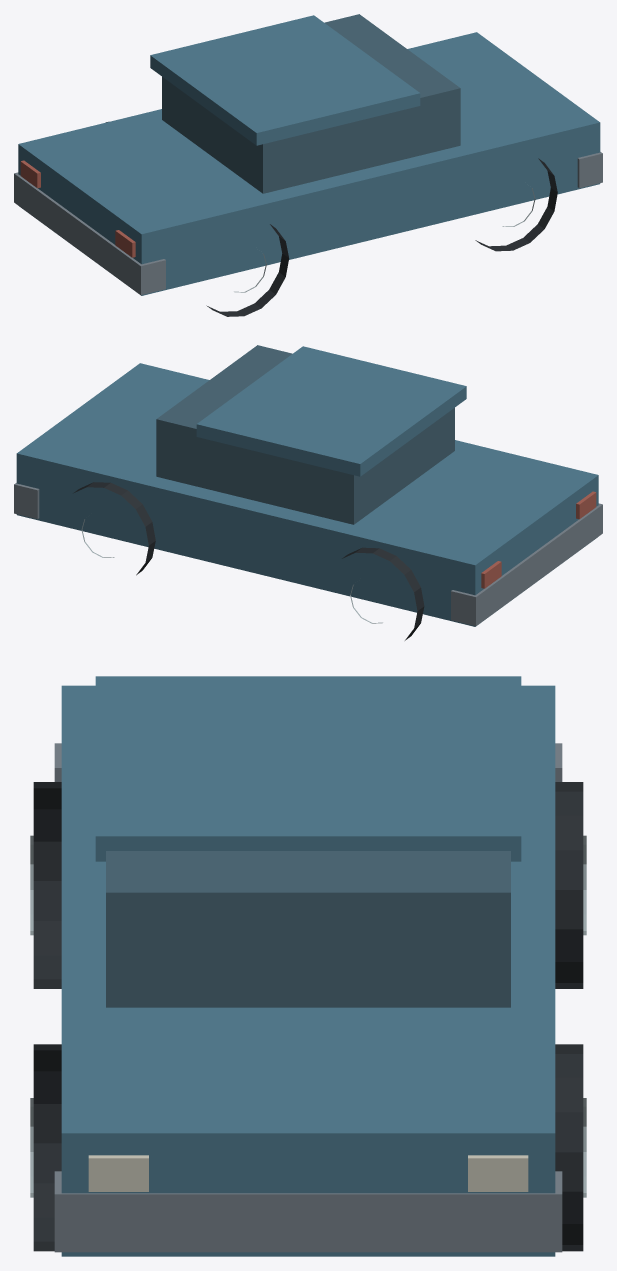
The model's file is v32_car_concept.glb.
3 renders of one model, top to bottom at view 1: azimuth 30°, elevation 25°; view 2: azimuth 150°, elevation 25°; view 3: azimuth 270°, elevation 25°, orthographic. The views are drawn at different scales.
Parts seen in each view (by area): view 1: world; view 2: world; view 3: world.
Boxes of the visible parts, <box> form: world: <box>14,14,602,316</box>; world: <box>14,345,602,640</box>; world: <box>30,676,586,1256</box>.
Bounding box in the file's own units: 9.23 × 3.13 × 4.78.
